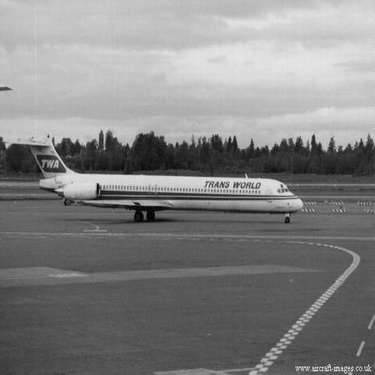airplane: (5, 107, 312, 226)
